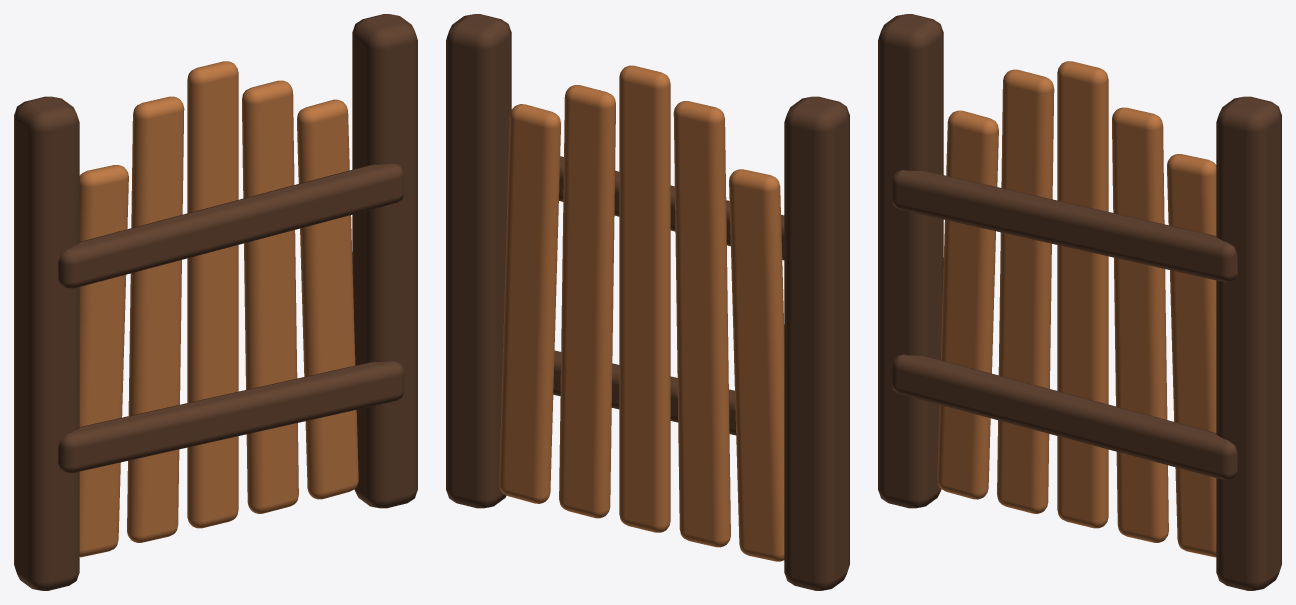
Rendered from GROVE_HALF_GATE.glb.
The picture shows the model from 3 angles, left to right: view 1: azimuth 30°, elevation 25°; view 2: azimuth 150°, elevation 25°; view 3: azimuth 330°, elevation 25°; orthographic projection.
Parts seen in each view (by area): view 1: frame, slats; view 2: slats, frame; view 3: frame, slats.
Boxes of the visible parts, x1,y1,x2,y2 form: frame: [14, 14, 417, 590]; slats: [79, 61, 358, 557]; slats: [499, 65, 784, 561]; frame: [446, 14, 849, 590]; frame: [878, 14, 1281, 590]; slats: [937, 61, 1216, 557].
Size of the model in its own units: 3.72 by 4.4 by 0.59.
